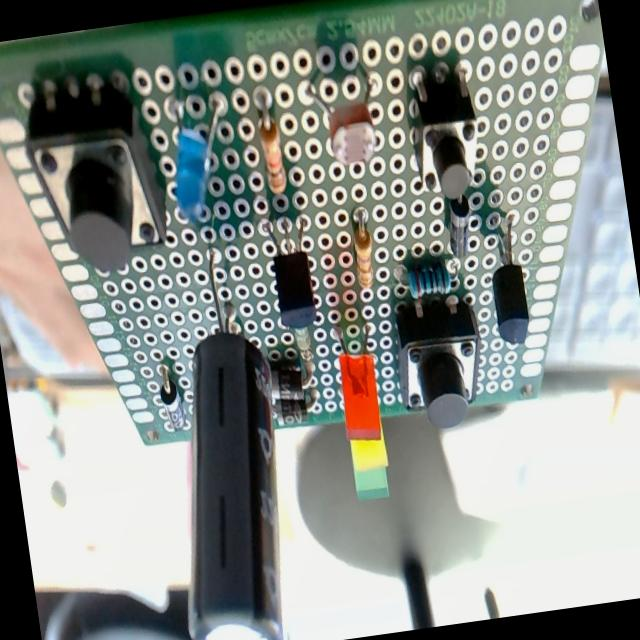Electrolytic capacitor: (134, 246, 305, 640)
cds: (306, 68, 388, 172)
diode: (444, 193, 477, 260), (156, 367, 188, 433), (268, 362, 306, 403), (274, 394, 308, 426)
led: (161, 93, 240, 229), (336, 350, 386, 445), (345, 422, 402, 477), (349, 464, 394, 511)
resistor: (252, 89, 288, 195), (348, 210, 380, 296), (407, 260, 452, 300)
switch: (18, 74, 173, 278), (388, 291, 492, 428), (405, 69, 489, 213)
transistor: (263, 211, 325, 341), (482, 212, 534, 348)
